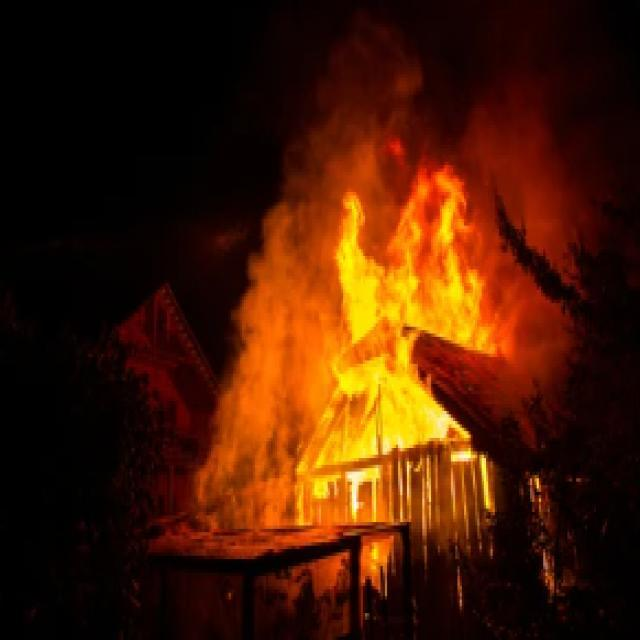Fire: (295, 148, 497, 576)
Smoke: (212, 85, 334, 491), (478, 44, 610, 340)
